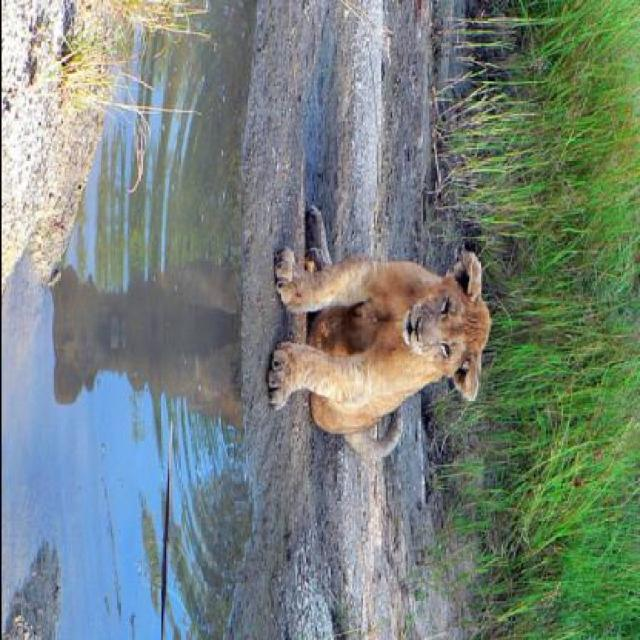Lion: (242, 171, 518, 471)
